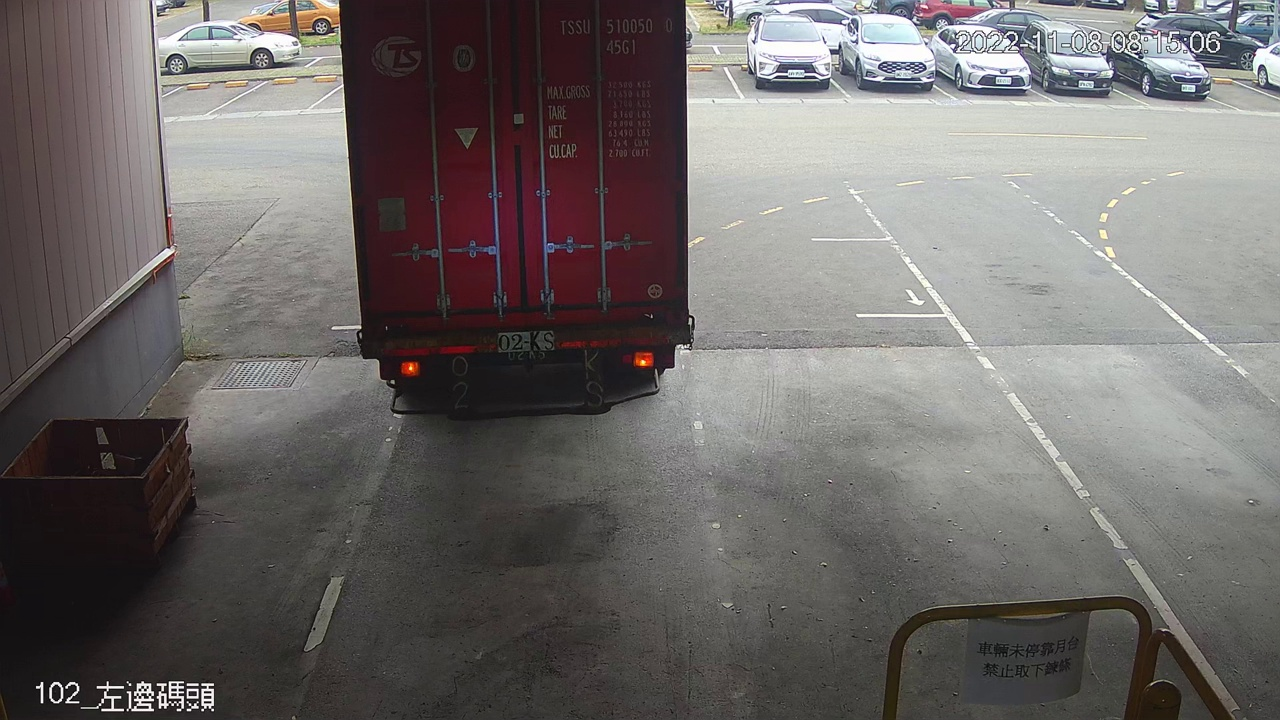container: (556, 11, 681, 60)
